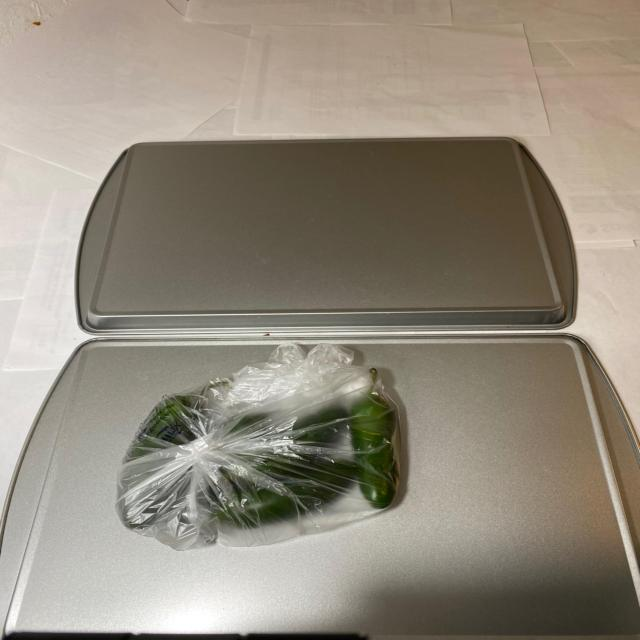chilli: (116, 366, 408, 545)
